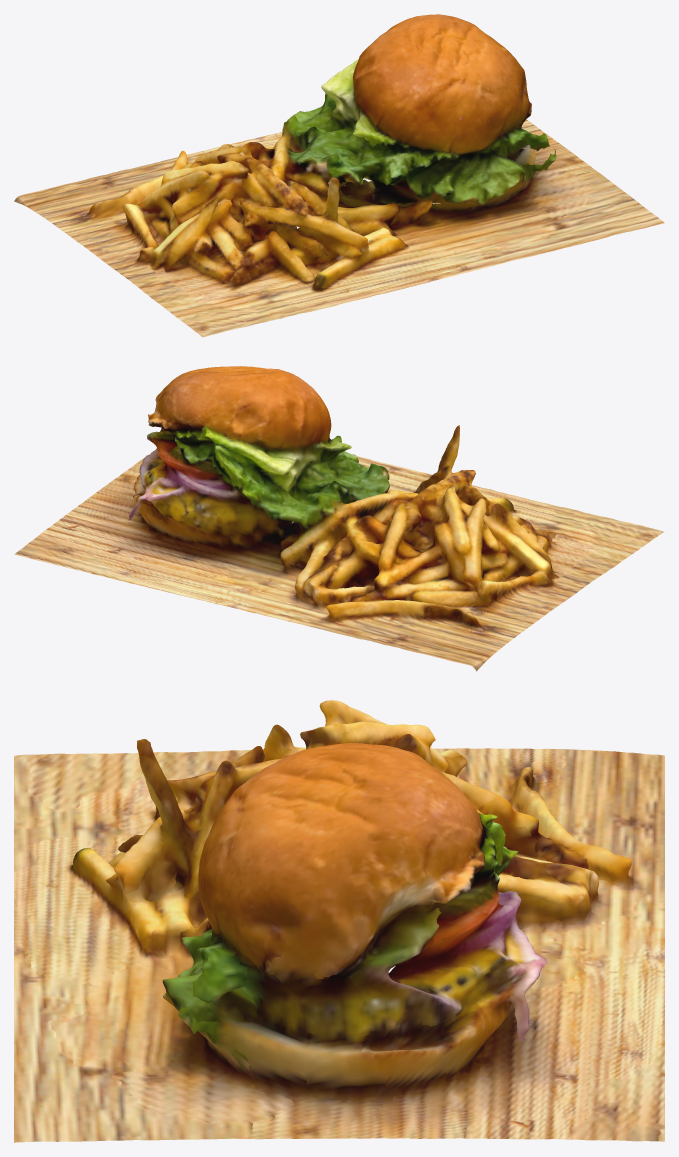
File: Burger 3D Model.glb
3 renders of one model, top to bottom at view 1: azimuth 30°, elevation 25°; view 2: azimuth 150°, elevation 25°; view 3: azimuth 270°, elevation 25°, orthographic. The views are drawn at different scales.
Parts seen in each view (by area): view 1: Object_2, Object_3; view 2: Object_2, Object_3; view 3: Object_2, Object_3.
Part boxes in pixels (x1=…): Object_2: x1=14, y1=16, x2=664, y2=337; Object_3: x1=92, y1=14, x2=542, y2=272; Object_2: x1=14, y1=366, x2=664, y2=671; Object_3: x1=16, y1=374, x2=549, y2=628; Object_2: x1=14, y1=701, x2=664, y2=1142; Object_3: x1=106, y1=700, x2=661, y2=1141.
Size of the model in its own units: 0.3121 by 0.1015 by 0.2203.
Materials: 1 (1 with a texture image).
